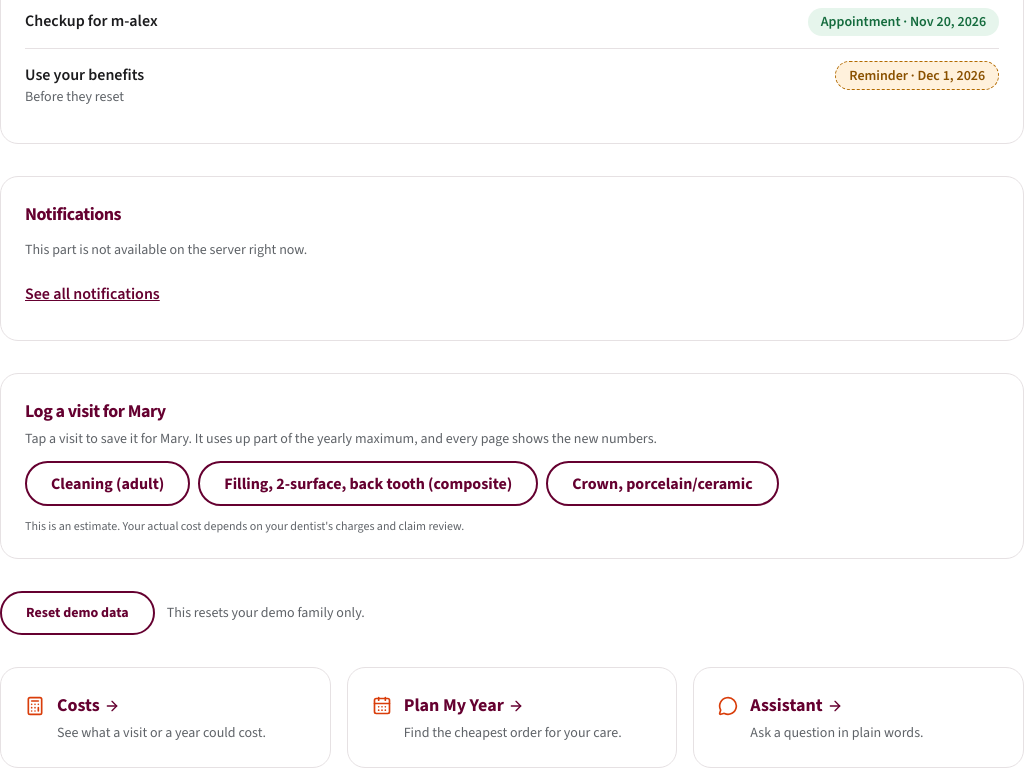
Home page › saves a visit on the server, shows You pay from the response and reloads the overview
(page scrolled)
Click the button with aria-label "Log Cleaning (adult)" at (108, 484), box [25,461,190,506]
(page scrolled)
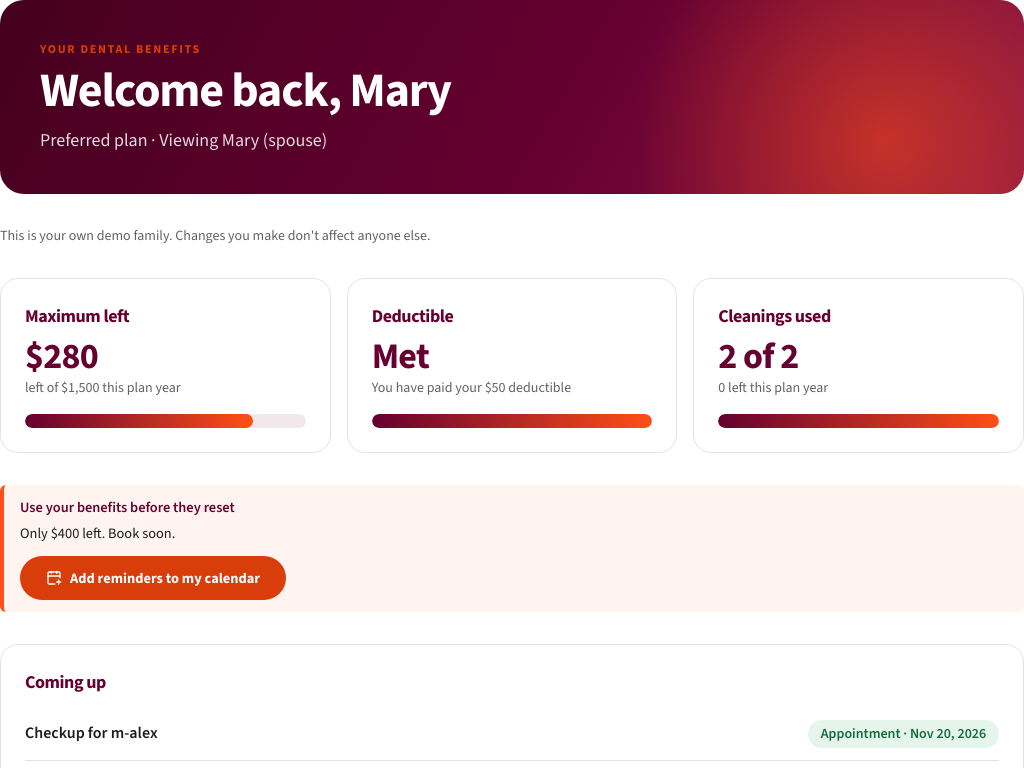
expect the element with test id "card-max" shows "$280": met, box [25,332,98,380]
expect the element with test id "card-cleanings" shows "2 of 2": met, box [718,332,798,380]
